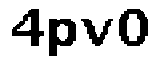0: (116, 4, 151, 48)
4: (9, 7, 45, 48)
p: (46, 16, 77, 60)
v: (79, 15, 113, 51)
